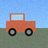vehicle: (6, 13, 35, 36)
